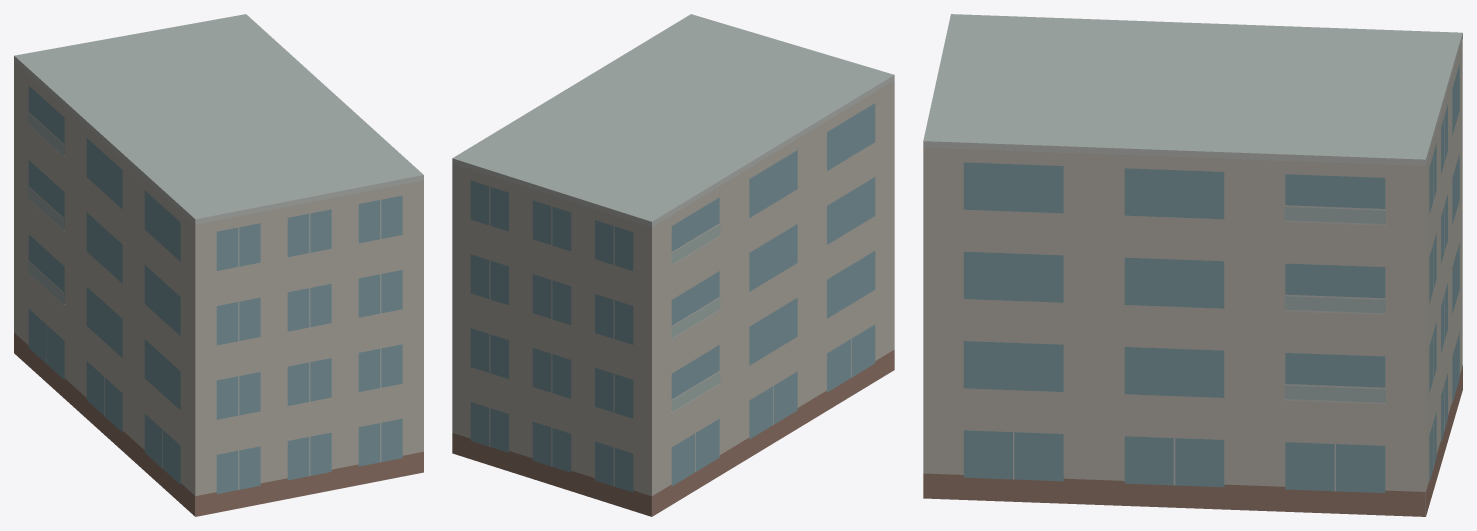
File: survey-upis-32996573.glb
3 renders of one model, left to right at view 1: azimuth 30°, elevation 25°; view 2: azimuth 150°, elevation 25°; view 3: azimuth 270°, elevation 25°, orthographic. The views are drawn at different scales.
Visible parts, largest first — view 1: survey-upis-32996573.tmp; view 2: survey-upis-32996573.tmp; view 3: survey-upis-32996573.tmp.
Part boxes in pixels (x1,y1,x2,y2): survey-upis-32996573.tmp: (14, 14, 423, 516); survey-upis-32996573.tmp: (452, 14, 894, 516); survey-upis-32996573.tmp: (923, 14, 1462, 516).
Size of the model in its own units: 11.98 by 13.7 by 18.76.
